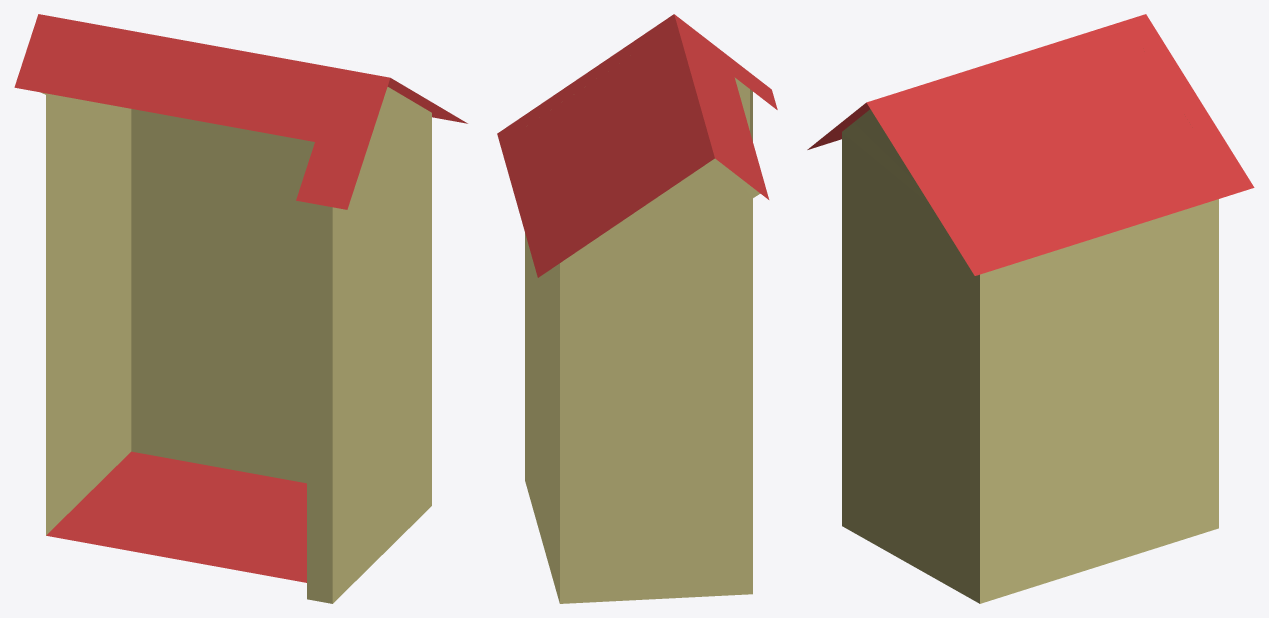
3 views of the same model, side by side, from view 1: azimuth 30°, elevation 25°; view 2: azimuth 150°, elevation 25°; view 3: azimuth 270°, elevation 25° (orthographic). The views are drawn at different scales.
Bounding box in the file's own units: 7.82 × 8.79 × 9.85.
